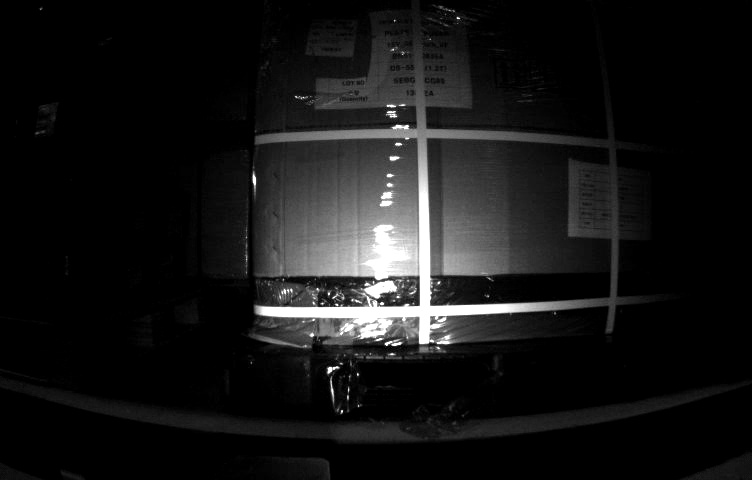True Barcode: (309, 17, 359, 57)
